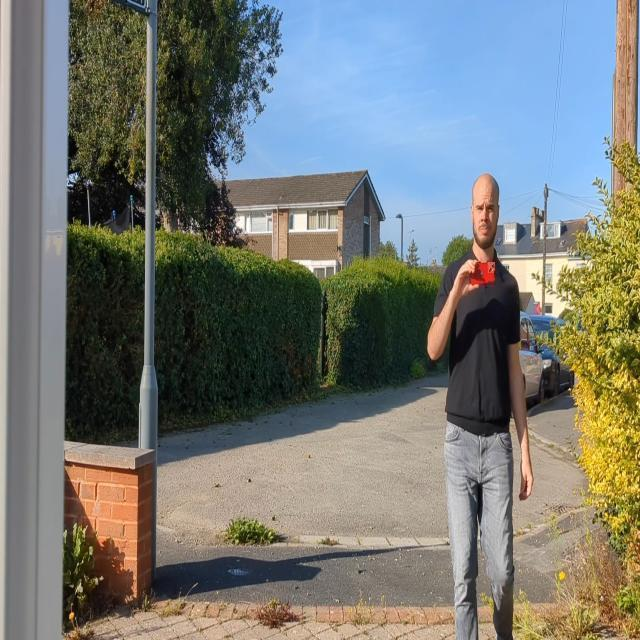Mobile: (469, 261, 496, 285)
